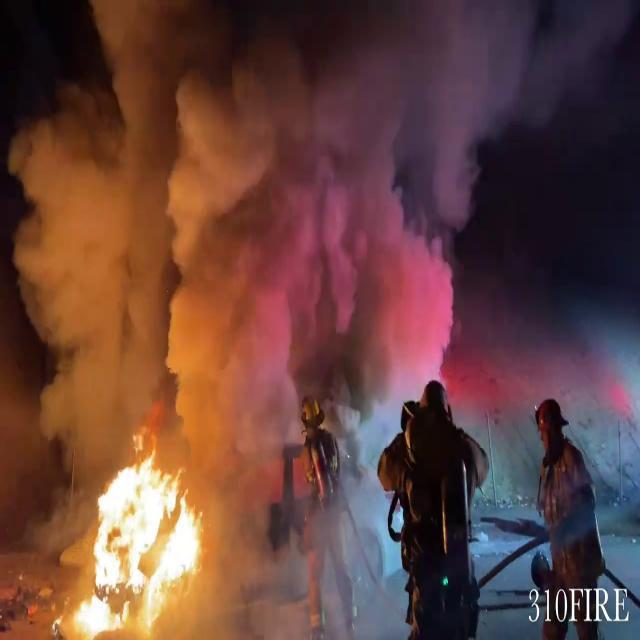Fire: (49, 440, 222, 638)
Smoke: (1, 0, 640, 455)
